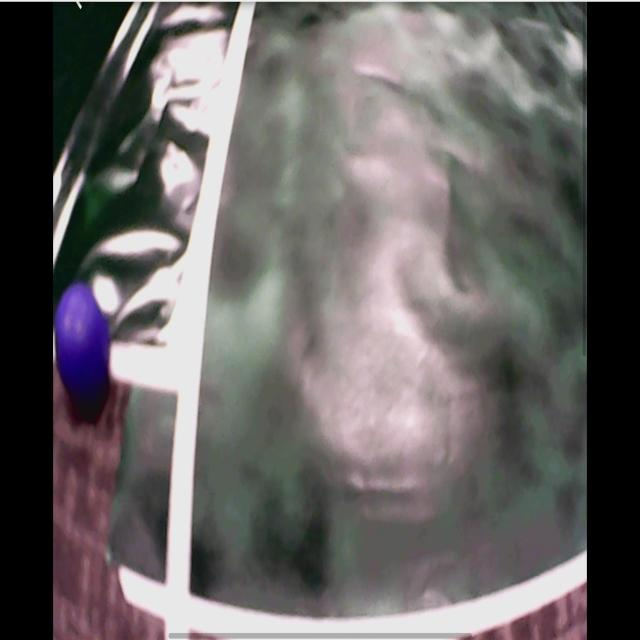ball: (55, 287, 112, 394)
